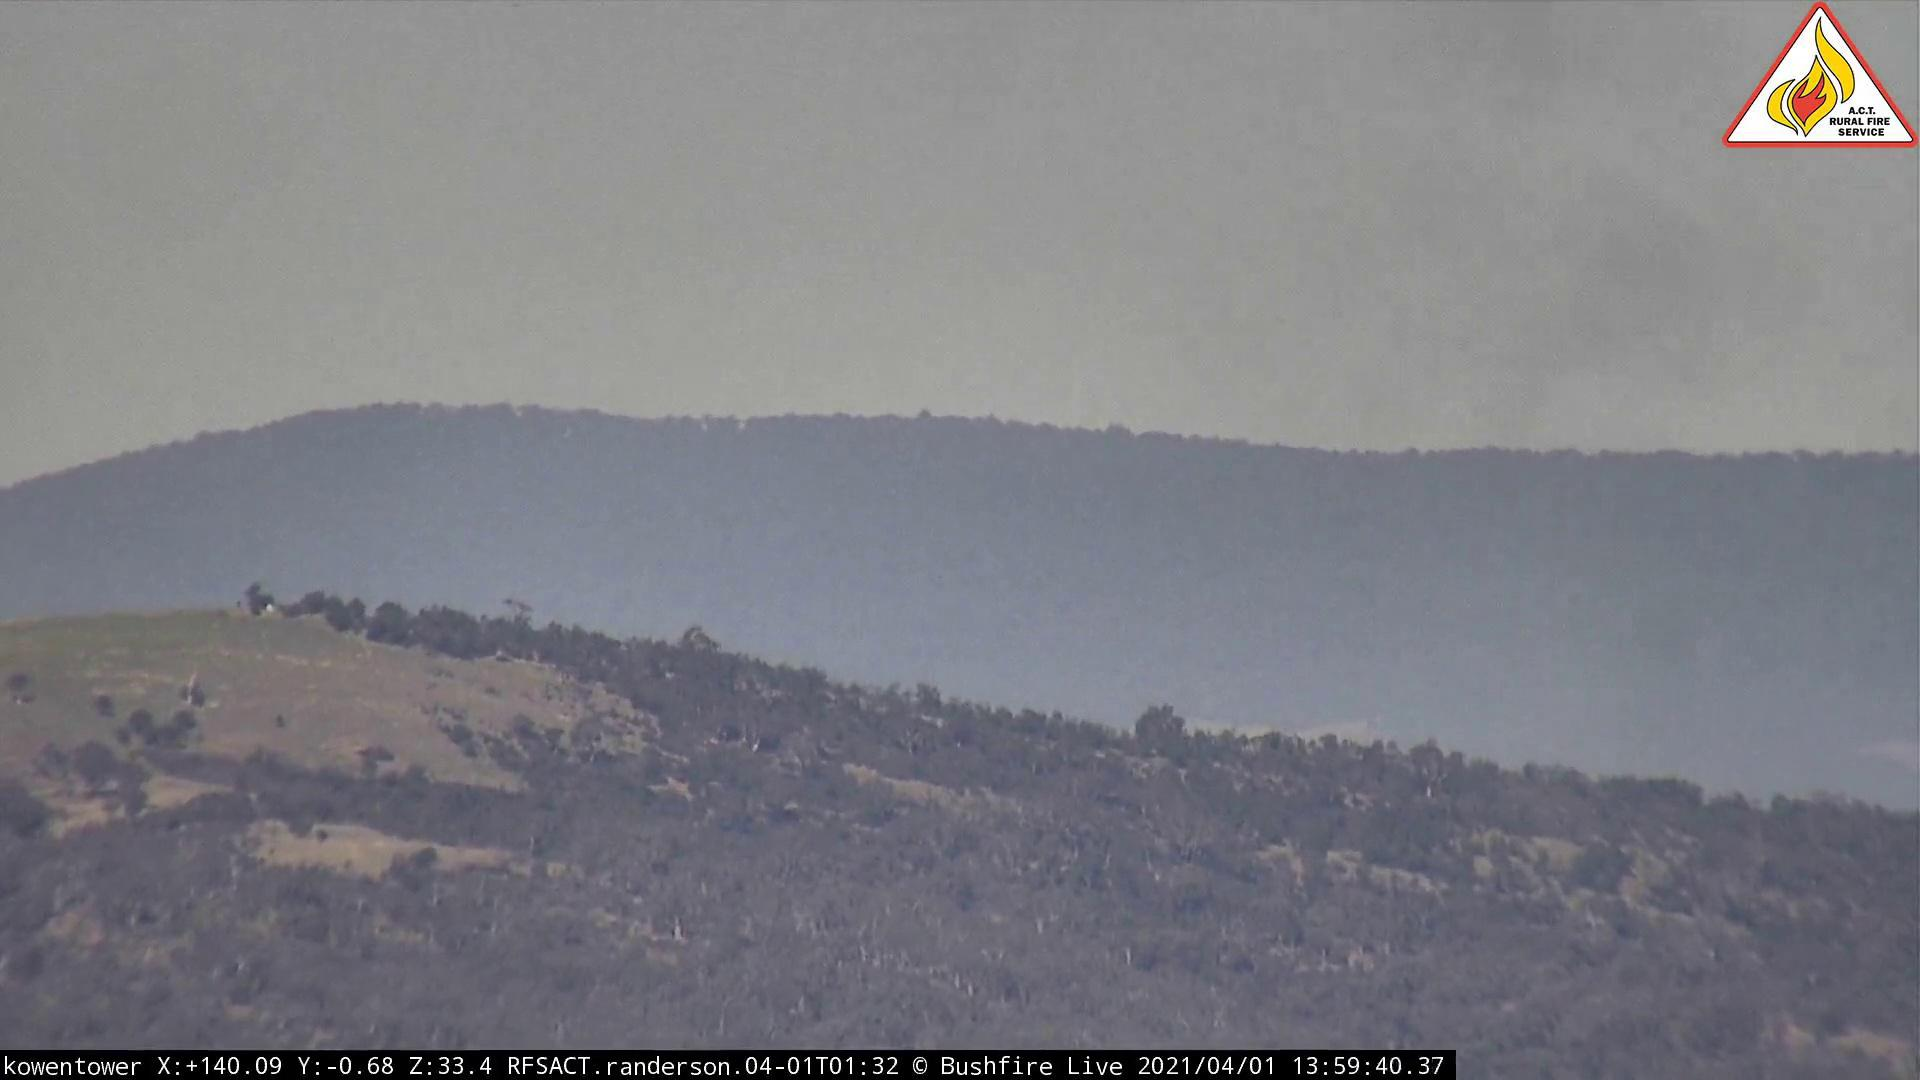Smoke: (1305, 171, 1822, 487)
